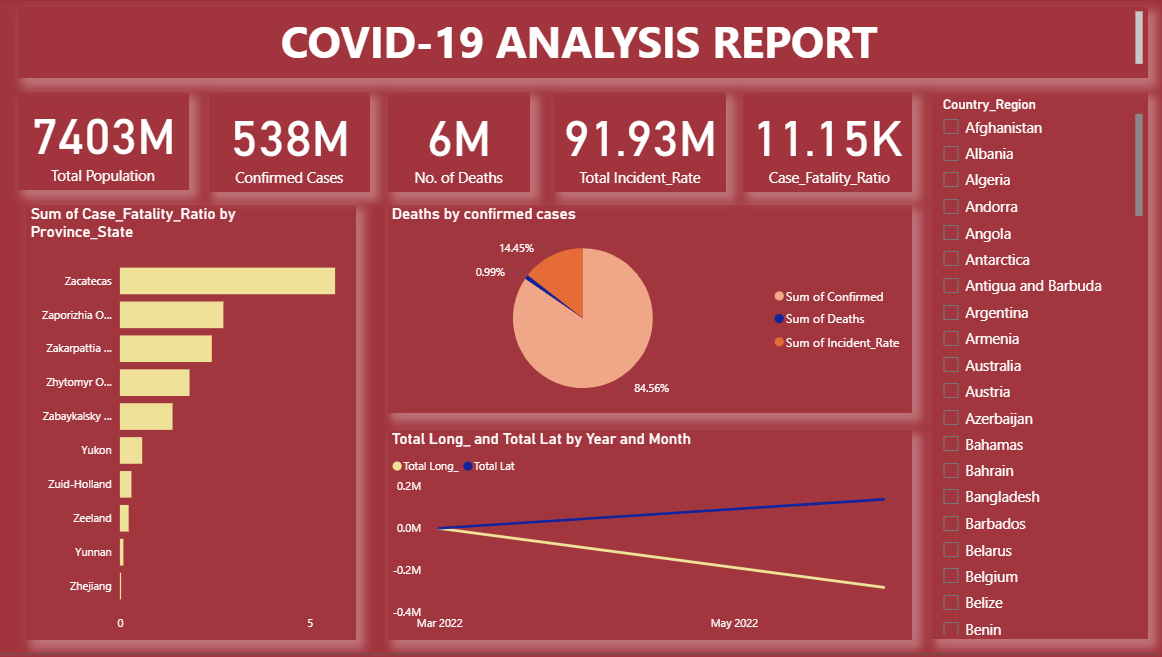

What the dashboard file says about the page in this screenshot:
{"tool":"powerbi","page":{"name":"Page 1","canvas":[1280,720],"ordinal":0},"visuals":[{"type":"card","fields":{"Values":["Sum(Covid19 data_Week4.Confirmed)"]},"box":[229.2,104.3,177,109.8],"z":0},{"type":"card","fields":{"Values":["Sum(WorldBank.Population)"]},"box":[19.2,104.3,188,107],"z":1000},{"type":"card","fields":{"Values":["Sum(Covid19 data_Week4.Deaths)"]},"box":[425.4,104.3,156.4,109.8],"z":2000},{"type":"card","fields":{"Values":["Sum(Merge1.Incident_Rate)"]},"box":[607.9,104.3,189.4,109.8],"z":3000},{"type":"textbox","box":[19.2,11,1240.5,78.2],"z":4000},{"type":"card","fields":{"Values":["Sum(Merge1.Case_Fatality_Ratio)"]},"box":[815.1,104.3,186.6,109.8],"z":5000},{"type":"slicer","fields":{"Values":["Merge1.Country_Region"]},"box":[1022.3,104.3,237.4,601],"z":6000},{"type":"pieChart","title":"Deaths by confirmed cases","fields":{"Y":["Sum(Merge1.Confirmed)","Sum(Merge1.Deaths)","Sum(Merge1.Incident_Rate)"]},"box":[425.4,227.8,576.3,229.2],"z":7000},{"type":"clusteredBarChart","fields":{"Category":["Merge1.Province_State"],"Y":["Sum(Merge1.Case_Fatality_Ratio)"]},"box":[29.3,227.4,362,478.1],"z":8000},{"type":"lineChart","fields":{"Y":["Sum(Merge1.Long_)","Sum(Merge1.Lat)"],"Category":["Merge1.Last_Update.Variation.Date Hierarchy.Year","Merge1.Last_Update.Variation.Date Hierarchy.Month"]},"box":[425.5,474.5,576,231.1],"z":9000}]}

Visuals, with their boxes in screenshot pixels (x1, y1, x2, y2), scaled from the page's 1280x720 canvas onto the 1162x657 screenshot:
card - Sum(Covid19 data_Week4.Confirmed): 208/95/369/195
card - Sum(WorldBank.Population): 17/95/188/193
card - Sum(Covid19 data_Week4.Deaths): 386/95/528/195
card - Sum(Merge1.Incident_Rate): 552/95/724/195
textbox: 17/10/1144/81
card - Sum(Merge1.Case_Fatality_Ratio): 740/95/909/195
slicer - Merge1.Country_Region: 928/95/1144/644
"Deaths by confirmed cases" pieChart: 386/208/909/417
clusteredBarChart - Merge1.Province_State x Sum(Merge1.Case_Fatality_Ratio): 27/208/355/644
lineChart - Sum(Merge1.Long_) x Sum(Merge1.Lat): 386/433/909/644
